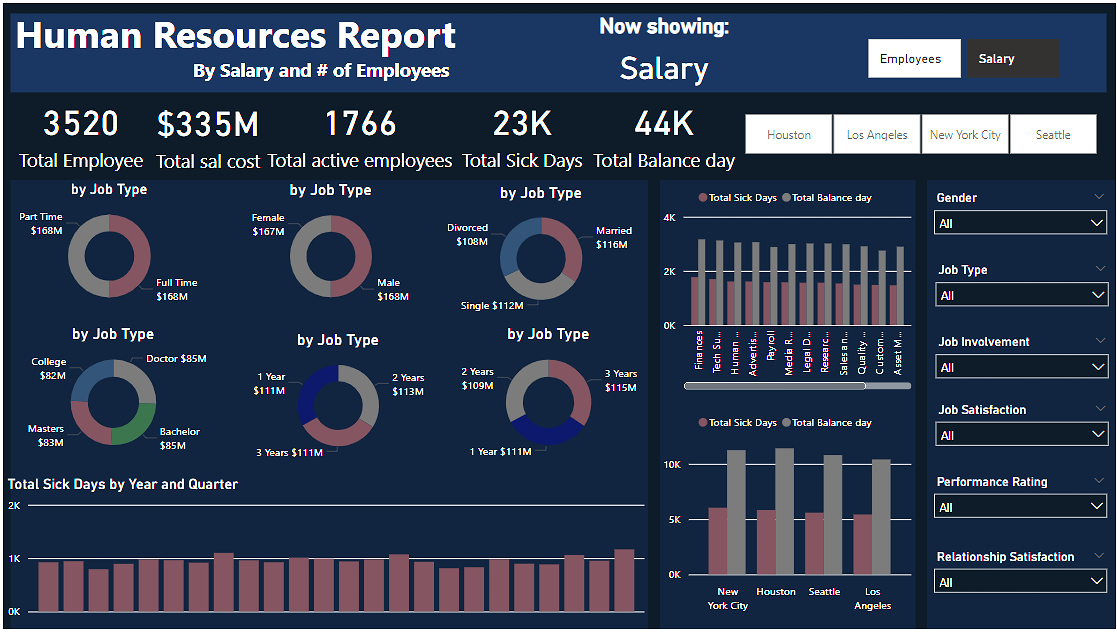

The page's visual inventory and layout, read from the dashboard file:
{"tool":"powerbi","page":{"name":"HR","canvas":[1280,720],"ordinal":0},"visuals":[{"type":"shape","box":[9.4,12.5,1259.8,90.7],"z":0},{"type":"textbox","box":[9.4,0,528.3,103.2],"z":1000},{"type":"shape","box":[9.4,203.2,733,517.3],"z":2000},{"type":"card","fields":{"Values":["Ameasure.Total Employee"]},"box":[9.4,90.7,161,112.5],"z":3000},{"type":"card","fields":{"Values":["Ameasure.Total sal cost"]},"box":[143.8,90.7,184.4,114.1],"z":4000},{"type":"card","fields":{"Values":["Ameasure.Total active employees"]},"box":[295.4,90.7,229.8,112.5],"z":5000},{"type":"card","fields":{"Values":["Ameasure.Total Sick Days"]},"box":[509.5,90.7,171.9,112.5],"z":6000},{"type":"card","fields":{"Values":["Ameasure.Total Balance day"]},"box":[667.4,92.2,184.4,112.5],"z":7000},{"type":"slicer","fields":{"Values":["Human Resources.Business Unit"]},"box":[826.8,120.4,453.3,59.4],"z":8000},{"type":"donutChart","title":"by Job Type","fields":{"Category":["Human Resources.Job Type"],"Y":["Ameasure.Total sal cost"]},"box":[9.4,203.2,226.6,154.7],"z":9000},{"type":"donutChart","title":"by Job Type","fields":{"Category":["Human Resources.Gender"],"Y":["Ameasure.Total sal cost"]},"box":[267.3,203.2,218.8,154.7],"z":10000},{"type":"donutChart","title":"by Job Type","fields":{"Category":["Human Resources.Marital Status"],"Y":["Ameasure.Total sal cost"]},"box":[495.5,206.3,247,153.2],"z":11000},{"type":"donutChart","title":"by Job Type","fields":{"Y":["Ameasure.Total sal cost"],"Category":["Human Resources.Education"]},"box":[9.4,368.9,236,159.4],"z":12000},{"type":"donutChart","title":"by Job Type","fields":{"Y":["Ameasure.Total sal cost"],"Category":["Human Resources.Years in current role"]},"box":[273.5,375.1,221.9,153.2],"z":13000},{"type":"donutChart","title":"by Job Type","fields":{"Y":["Ameasure.Total sal cost"],"Category":["Human Resources.Years since last promition"]},"box":[509.5,368.9,232.9,159.4],"z":14000},{"type":"shape","box":[754.9,202.7,293.8,517.3],"z":15000},{"type":"columnChart","fields":{"Category":["Human Resources.Hire Date.Variation.Date Hierarchy.Year","Human Resources.Hire Date.Variation.Date Hierarchy.Quarter"],"Y":["Ameasure.Total Sick Days"]},"box":[0,543.9,742,170],"z":16000},{"type":"shape","box":[1061.3,203.2,218.8,517.3],"z":17000},{"type":"clusteredColumnChart","fields":{"Y":["Ameasure.Total Sick Days","Ameasure.Total Balance day"],"Category":["Human Resources.Departmets"]},"box":[753.4,203.2,295.4,245.4],"z":18000},{"type":"clusteredColumnChart","fields":{"Y":["Ameasure.Total Sick Days","Ameasure.Total Balance day"],"Category":["Human Resources.Business Unit"]},"box":[753.4,462.6,295.4,245.4],"z":19000},{"type":"slicer","fields":{"Values":["Human Resources.Gender"]},"box":[1061.2,211,218.8,75],"z":20000},{"type":"slicer","fields":{"Values":["Human Resources.Job Type"]},"box":[1061.3,293.8,218.8,75],"z":21000},{"type":"slicer","fields":{"Values":["Human Resources.Relationship Satisfaction"]},"box":[1061.2,622.1,218.8,75],"z":22000},{"type":"slicer","fields":{"Values":["Human Resources.Job Involvement"]},"box":[1061.3,376.7,218.8,75],"z":23000},{"type":"slicer","fields":{"Values":["Human Resources.Job Satisfaction"]},"box":[1061.3,453.3,218.8,75],"z":24000},{"type":"slicer","fields":{"Values":["Human Resources.Performance Rating"]},"box":[1061.2,536.1,218.8,75],"z":25000},{"type":"advancedSlicerVisual","fields":{"Values":["Metrics.Column1"]},"box":[989.4,35.9,231.3,54.7],"z":26000},{"type":"card","title":"Now showing:","fields":{"Values":["Min(Metrics.Column1)"]},"box":[617.5,12.5,285,90],"z":27000}]}

Visuals, with their boxes in screenshot pixels (x1, y1, x2, y2), scaled from the page's 1280x720 canvas onto the 1117x632 screenshot:
shape: [8,11,1108,91]
textbox: [8,0,469,91]
shape: [8,178,648,631]
card - Ameasure.Total Employee: [8,80,149,178]
card - Ameasure.Total sal cost: [125,80,286,180]
card - Ameasure.Total active employees: [258,80,458,178]
card - Ameasure.Total Sick Days: [445,80,595,178]
card - Ameasure.Total Balance day: [582,81,743,180]
slicer - Human Resources.Business Unit: [722,106,1116,158]
"by Job Type" donutChart: [8,178,206,314]
"by Job Type" donutChart: [233,178,424,314]
"by Job Type" donutChart: [432,181,648,316]
"by Job Type" donutChart: [8,324,214,464]
"by Job Type" donutChart: [239,329,432,464]
"by Job Type" donutChart: [445,324,648,464]
shape: [659,178,915,631]
columnChart - Human Resources.Hire Date.Variation.Date Hierarchy.Year x Human Resources.Hire Date.Variation.Date Hierarchy.Quarter: [0,477,648,627]
shape: [926,178,1116,631]
clusteredColumnChart - Ameasure.Total Sick Days x Ameasure.Total Balance day: [657,178,915,394]
clusteredColumnChart - Ameasure.Total Sick Days x Ameasure.Total Balance day: [657,406,915,621]
slicer - Human Resources.Gender: [926,185,1116,251]
slicer - Human Resources.Job Type: [926,258,1116,324]
slicer - Human Resources.Relationship Satisfaction: [926,546,1116,612]
slicer - Human Resources.Job Involvement: [926,331,1116,396]
slicer - Human Resources.Job Satisfaction: [926,398,1116,464]
slicer - Human Resources.Performance Rating: [926,471,1116,536]
advancedSlicerVisual - Metrics.Column1: [863,32,1065,80]
"Now showing:" card: [539,11,788,90]
